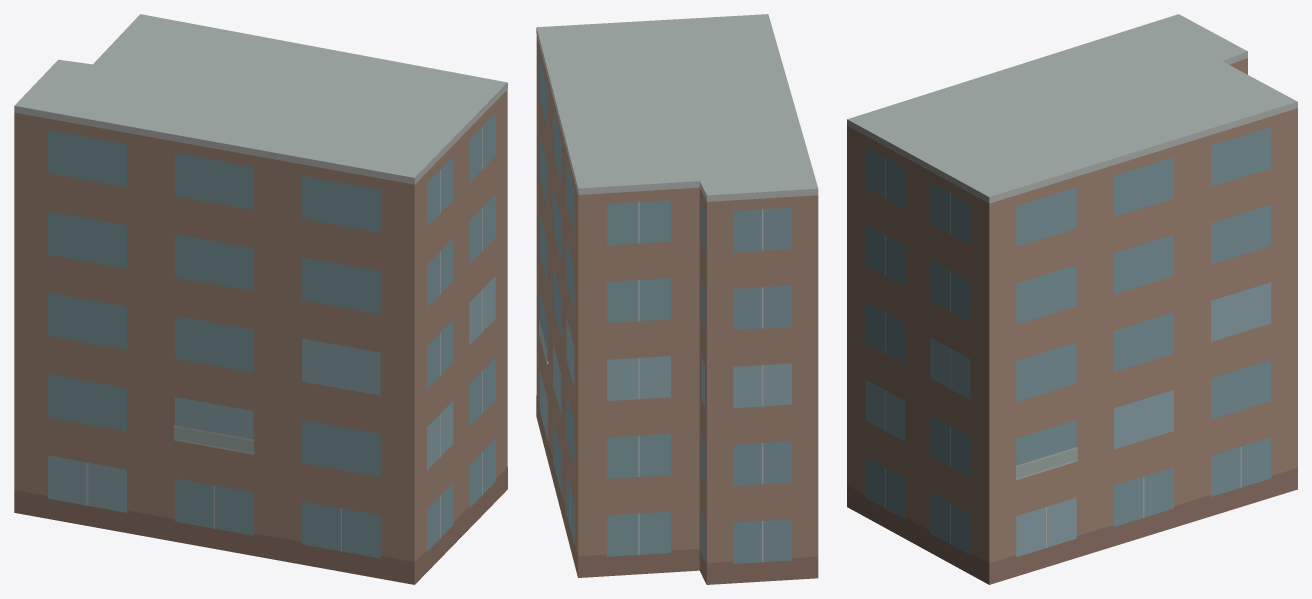
File: survey-upis-32875730.glb
3 renders of one model, left to right at view 1: azimuth 30°, elevation 25°; view 2: azimuth 150°, elevation 25°; view 3: azimuth 270°, elevation 25°, orthographic. The views are drawn at different scales.
Parts seen in each view (by area): view 1: survey-upis-32875730.tmp; view 2: survey-upis-32875730.tmp; view 3: survey-upis-32875730.tmp.
Boxes of the visible parts, box(x1,y1,x2,y2) form: survey-upis-32875730.tmp: box(14, 14, 507, 584); survey-upis-32875730.tmp: box(536, 14, 818, 584); survey-upis-32875730.tmp: box(847, 14, 1297, 584).
Size of the model in its own units: 14.9 by 14.7 by 15.5.
